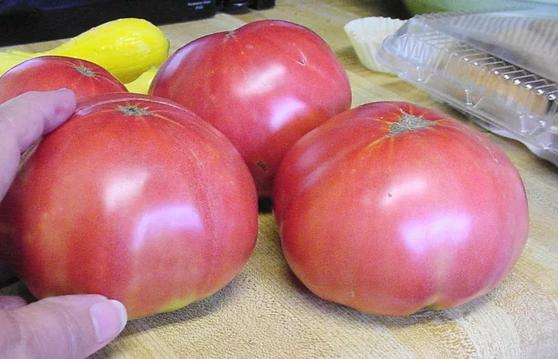tomato: (270, 101, 527, 315)
